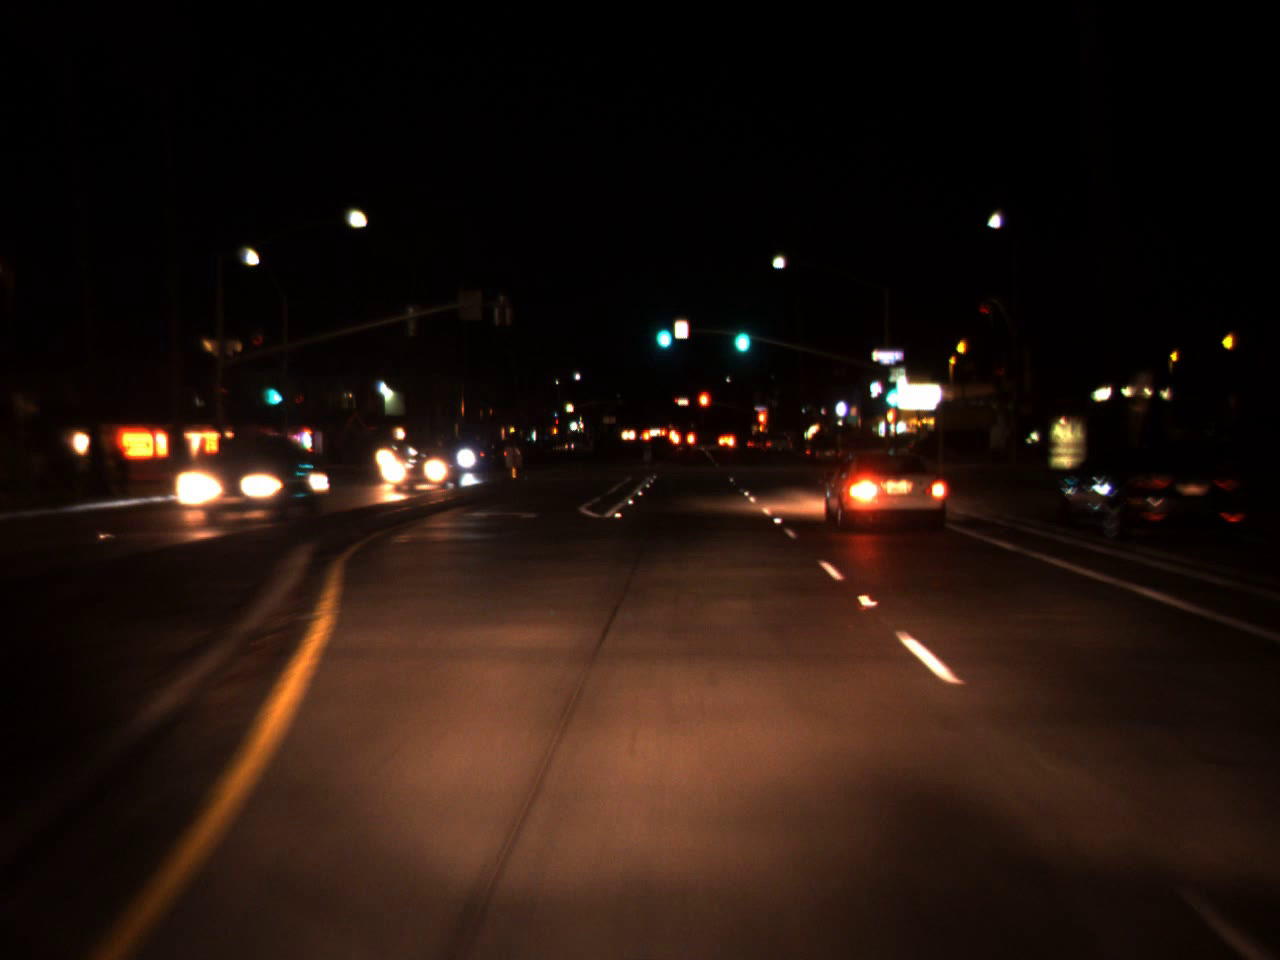go: (651, 307, 674, 355), (729, 310, 752, 358), (881, 370, 902, 412), (264, 369, 280, 411)
stop: (698, 392, 710, 416), (757, 409, 767, 436)
